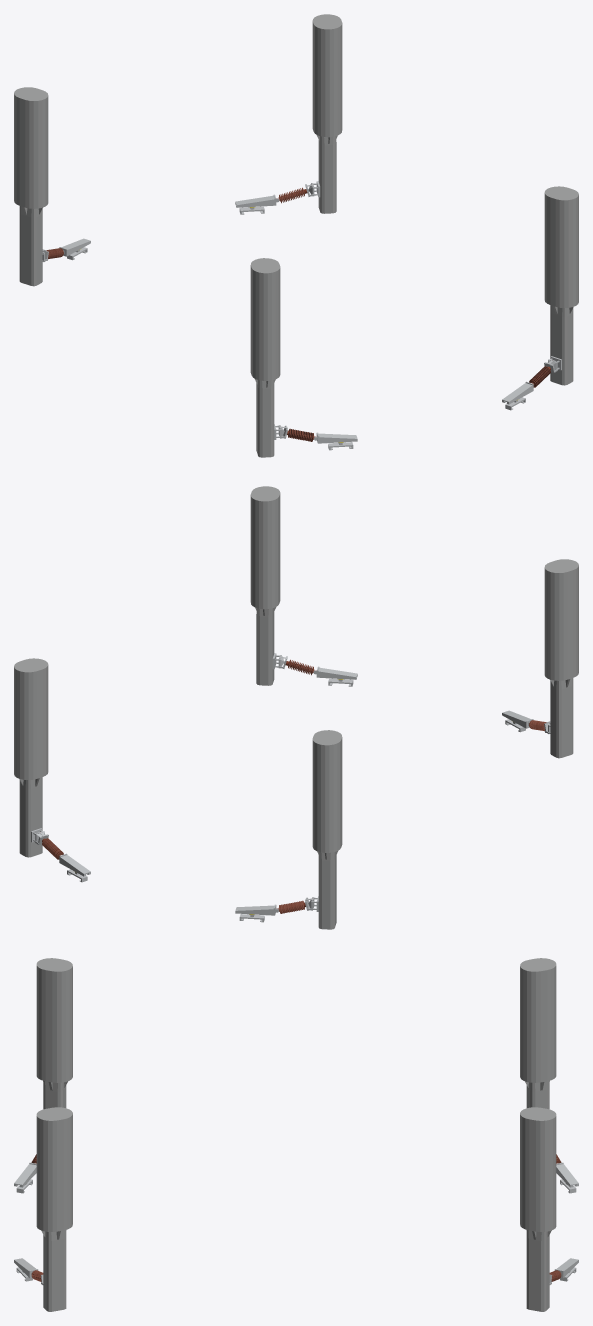
File: catenary_rigid_225d_hs_node.obj
3 views of the same model, one above another, from view 1: azimuth 30°, elevation 25°; view 2: azimuth 150°, elevation 25°; view 3: azimuth 270°, elevation 25° (orthographic). The views are drawn at different scales.
Visible parts, largest first — view 1: 1.002, 1.003, 1.007, 1.001; view 2: 1.001, 1.007, 1.003, 1.002; view 3: 1.001, 1.002, 1.007, 1.003.
Boxes of the visible parts, box(x1,y1,x2,y2) form: 1.002: box(502, 186, 578, 410); 1.003: box(14, 87, 90, 286); 1.007: box(250, 258, 357, 457); 1.001: box(235, 14, 342, 214); 1.001: box(14, 658, 90, 882); 1.007: box(502, 559, 578, 758); 1.003: box(235, 730, 342, 929); 1.002: box(250, 486, 357, 686); 1.001: box(520, 1107, 578, 1311); 1.002: box(14, 1107, 72, 1311); 1.007: box(14, 958, 72, 1193); 1.003: box(520, 958, 578, 1193).
Size of the model in its own units: 3.26 by 1.8 by 4.78.
Materials: 4 (4 with a texture image).
